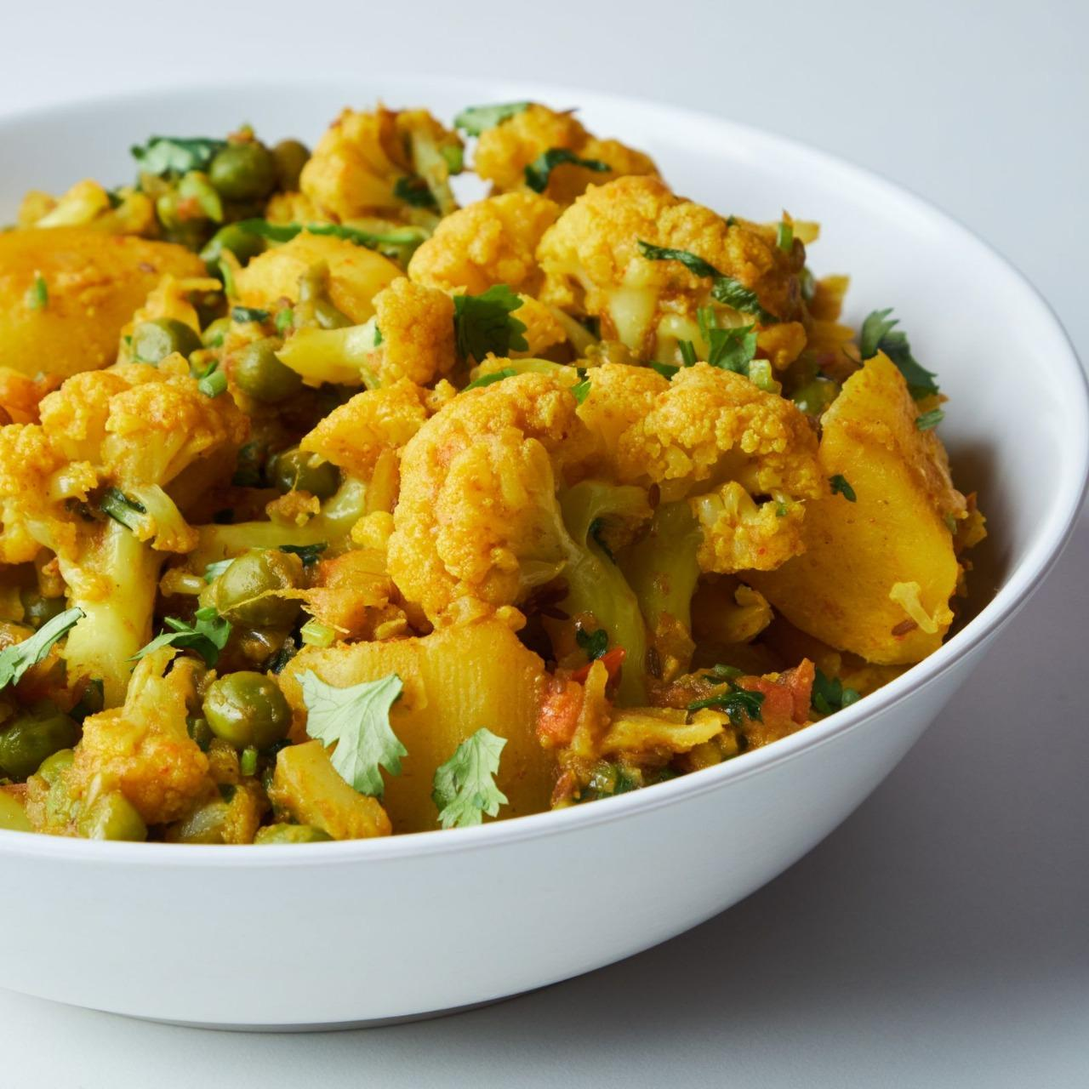aloo gobhi: (6, 72, 1078, 982)
